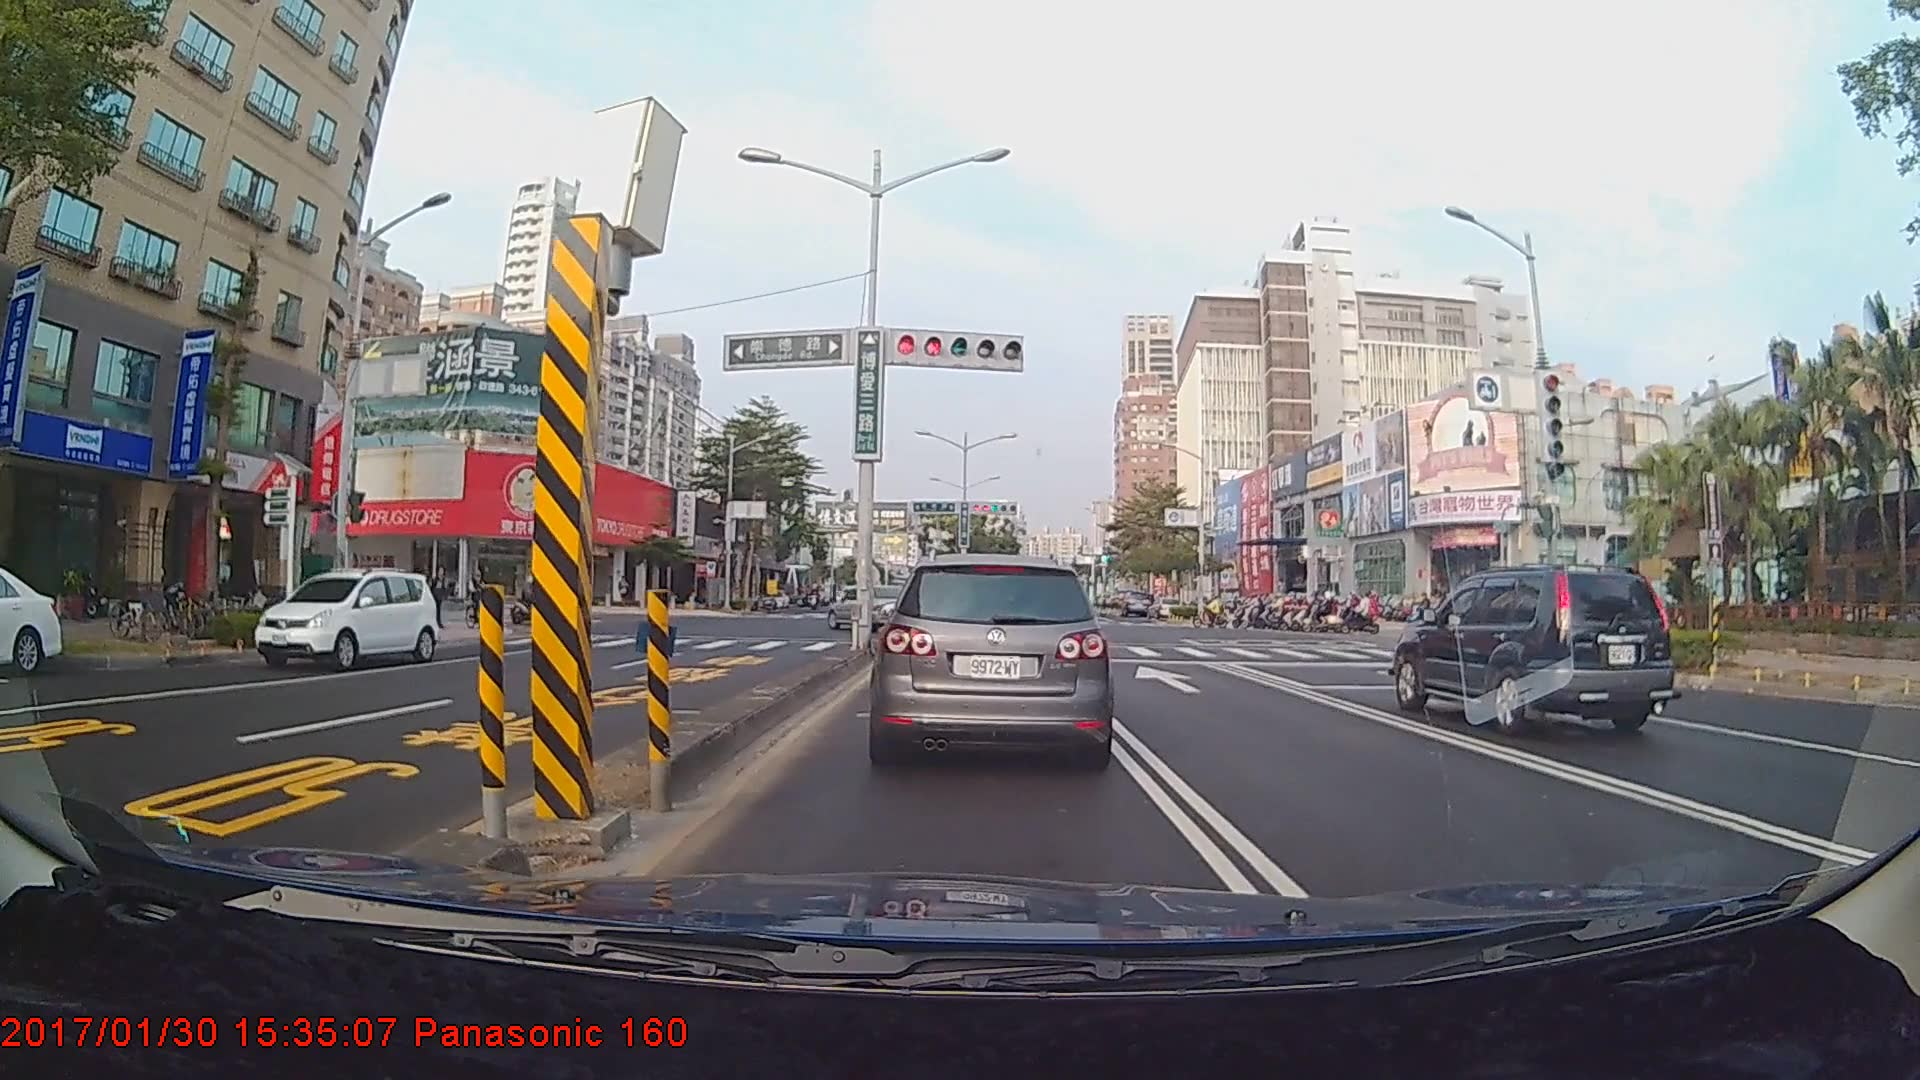pedestrian: (428, 567, 449, 632)
rider: (464, 566, 499, 631)
vehicle: (862, 545, 1117, 770), (1388, 566, 1672, 738), (252, 569, 438, 671), (0, 559, 64, 676), (825, 583, 920, 628), (1121, 591, 1151, 618)
